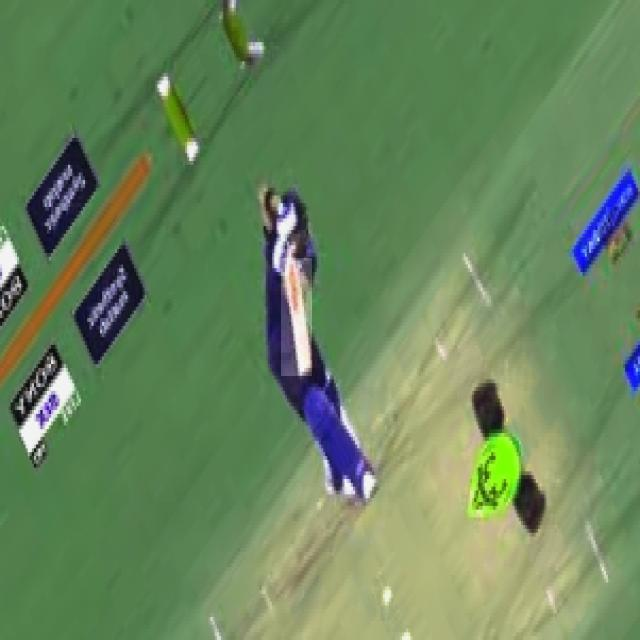bat: (280, 258, 311, 376)
toe: (294, 363, 319, 376)
